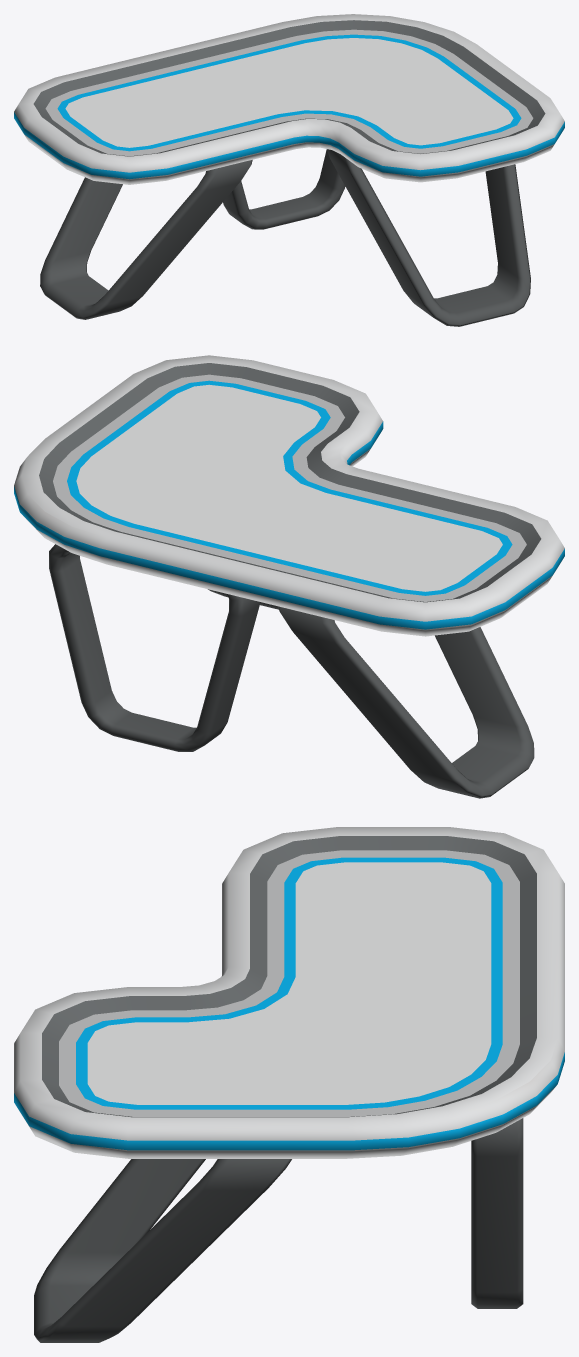
Rendered from Desk_025.fbx.
3 renders of one model, top to bottom at view 1: azimuth 30°, elevation 25°; view 2: azimuth 150°, elevation 25°; view 3: azimuth 270°, elevation 25°, orthographic. The views are drawn at different scales.
Visible parts, largest first — view 1: Desk_025; view 2: Desk_025; view 3: Desk_025.
Boxes of the visible parts, left/top/right/bottom form: Desk_025: left=14, top=14, right=564, bottom=326; Desk_025: left=14, top=355, right=564, bottom=798; Desk_025: left=14, top=827, right=564, bottom=1342.
Bounding box in the file's own units: 212 × 162 × 84.83.
